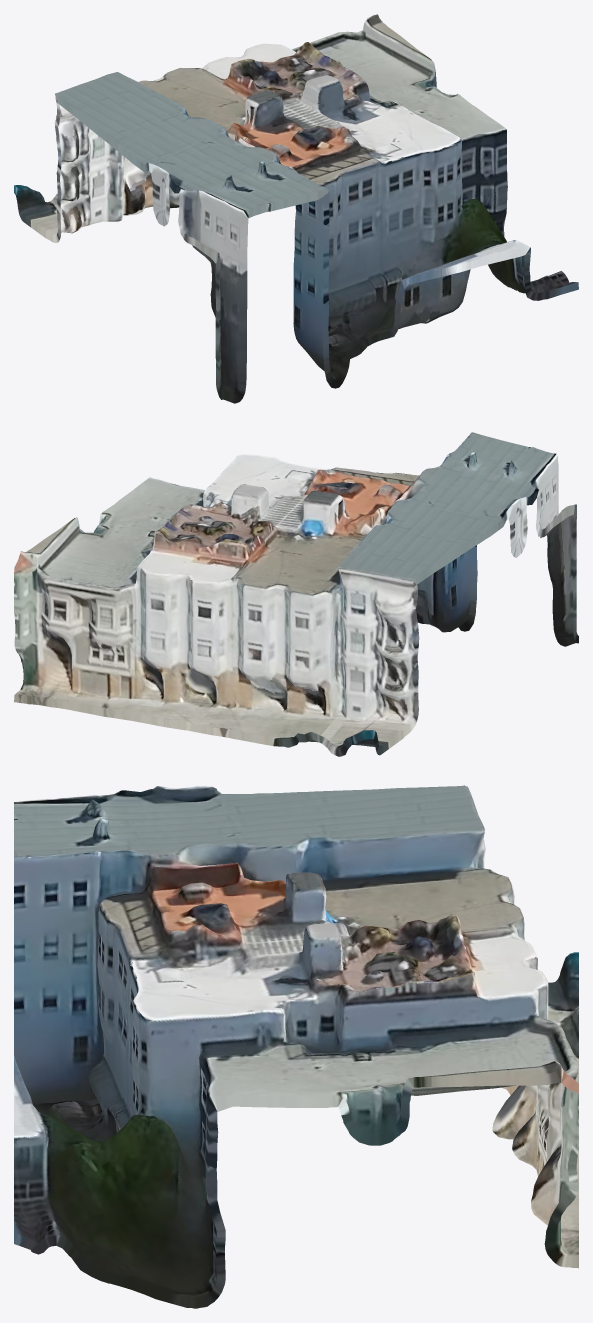
Rendered from z20-167725-405196-h0-yup-uvflip-v3-world.glb.
The picture shows the model from 3 angles, top to bottom: view 1: azimuth 30°, elevation 25°; view 2: azimuth 150°, elevation 25°; view 3: azimuth 270°, elevation 25°; orthographic projection. The views are drawn at different scales.
Bounding box in the file's own units: 30.2 × 17.8 × 30.32.
1 material, 1 textured.
